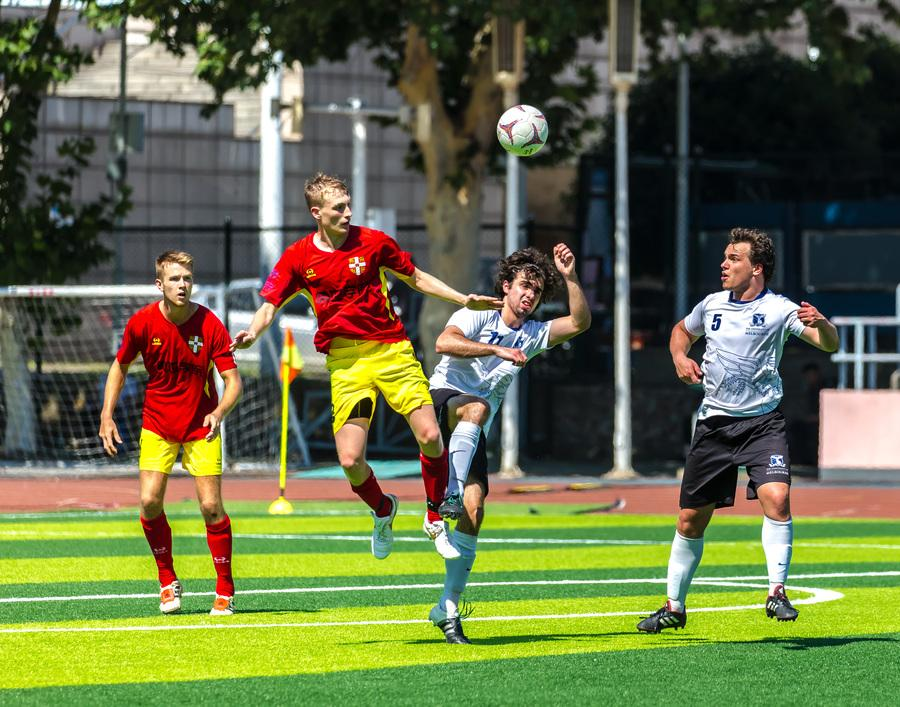football: (495, 103, 550, 156)
